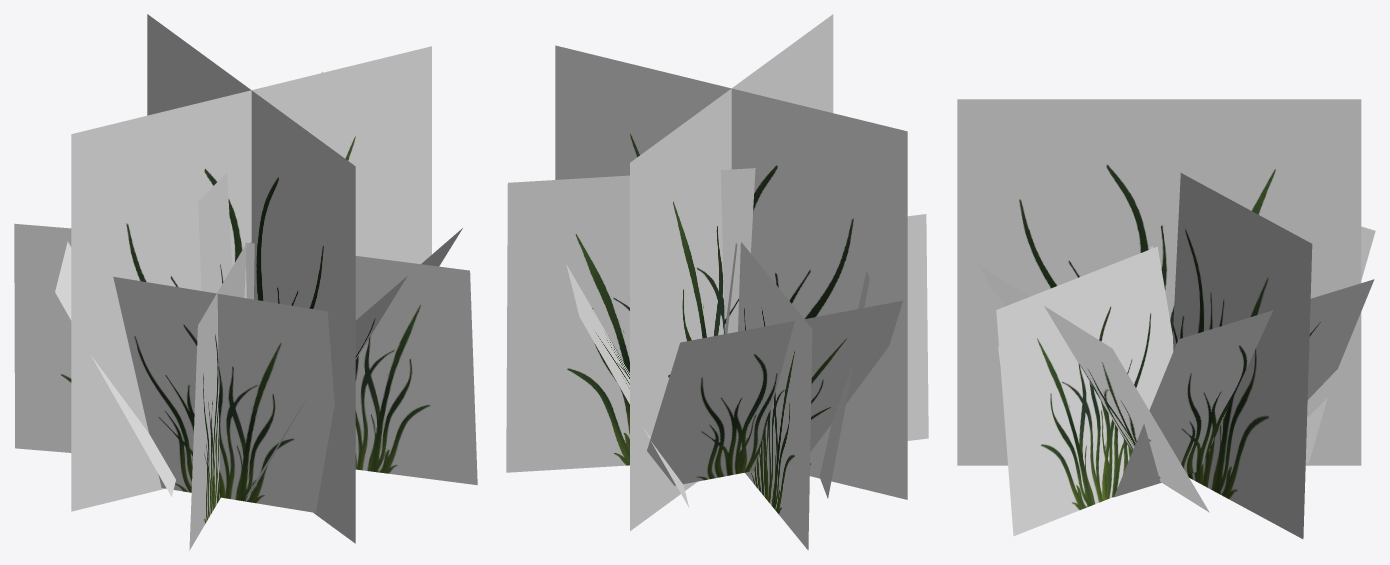
Rendered from Water Grass Test.fbx.
3 views of the same model, side by side, from view 1: azimuth 30°, elevation 25°; view 2: azimuth 150°, elevation 25°; view 3: azimuth 270°, elevation 25° (orthographic). The views are drawn at different scales.
Visible parts, largest first — view 1: Plane; view 2: Plane; view 3: Plane.
Part boxes in pixels (box(x1,y1,x2,y2)): Plane: box(14, 14, 477, 550); Plane: box(506, 14, 928, 550); Plane: box(957, 99, 1375, 538).
Size of the model in its own units: 207 by 200 by 207.
